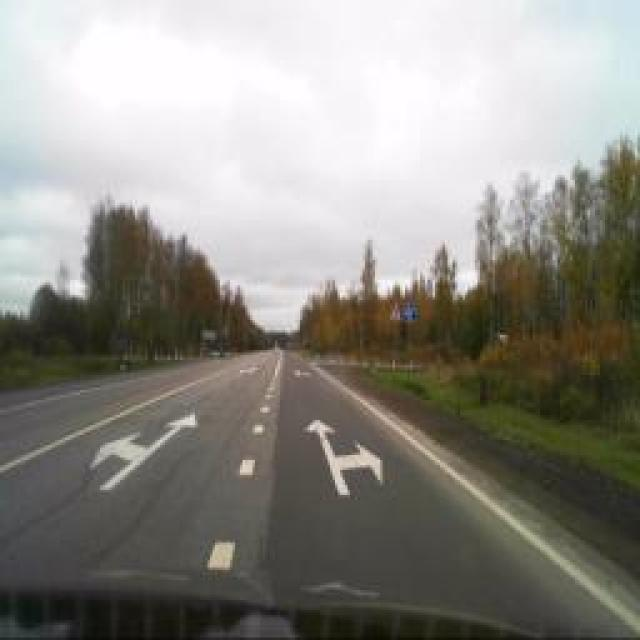sign: (389, 301, 401, 321)
